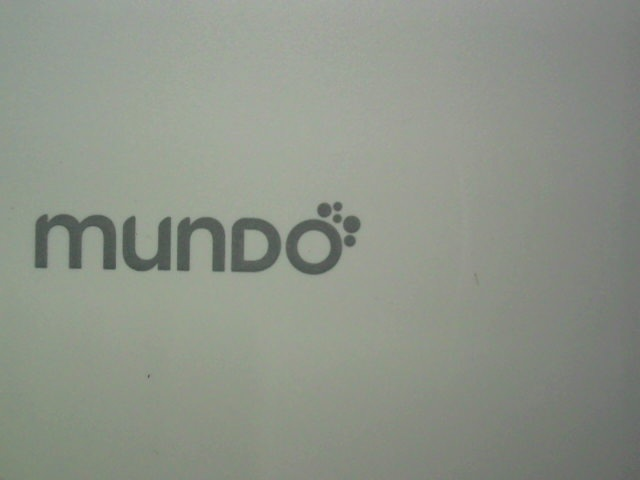BI_MUNDO: (20, 187, 362, 275)
